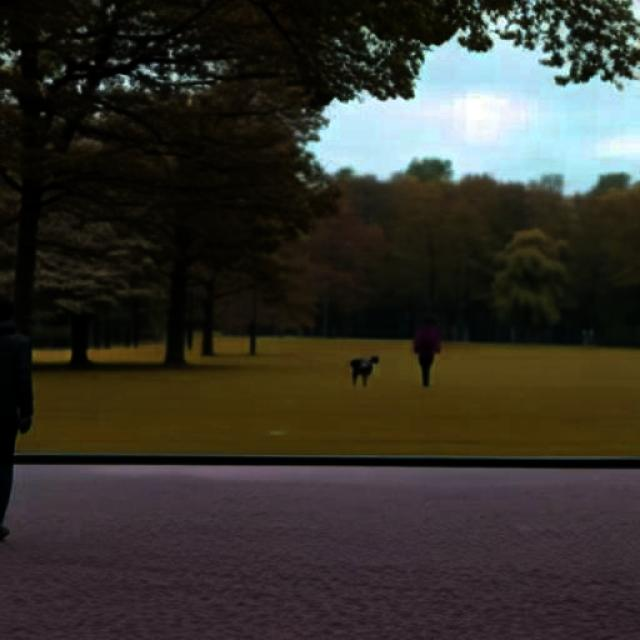Unleashed_Dog: (350, 356, 436, 388)
